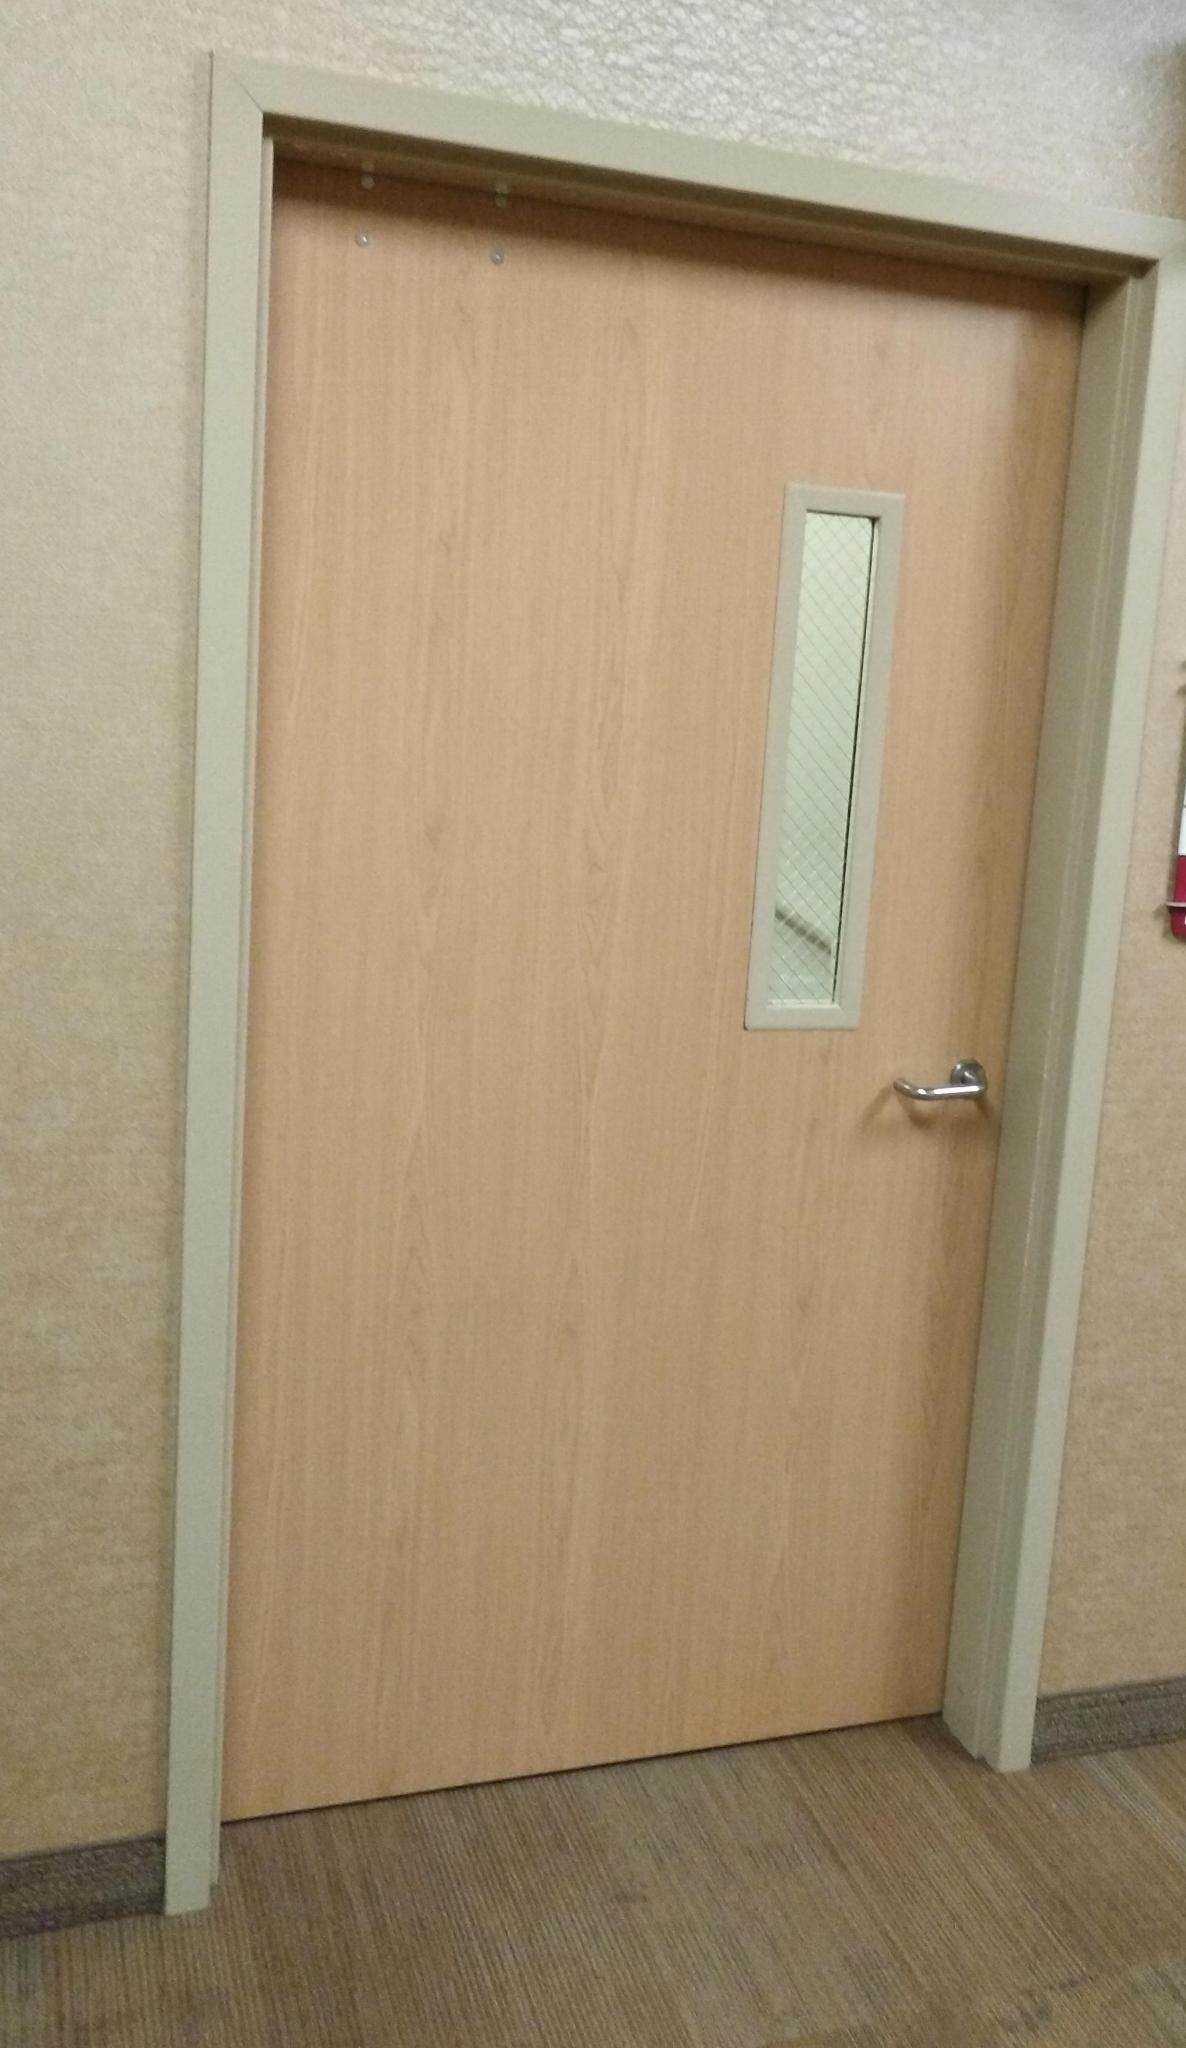door: (224, 313, 990, 1811)
handle: (898, 1050, 990, 1149)
